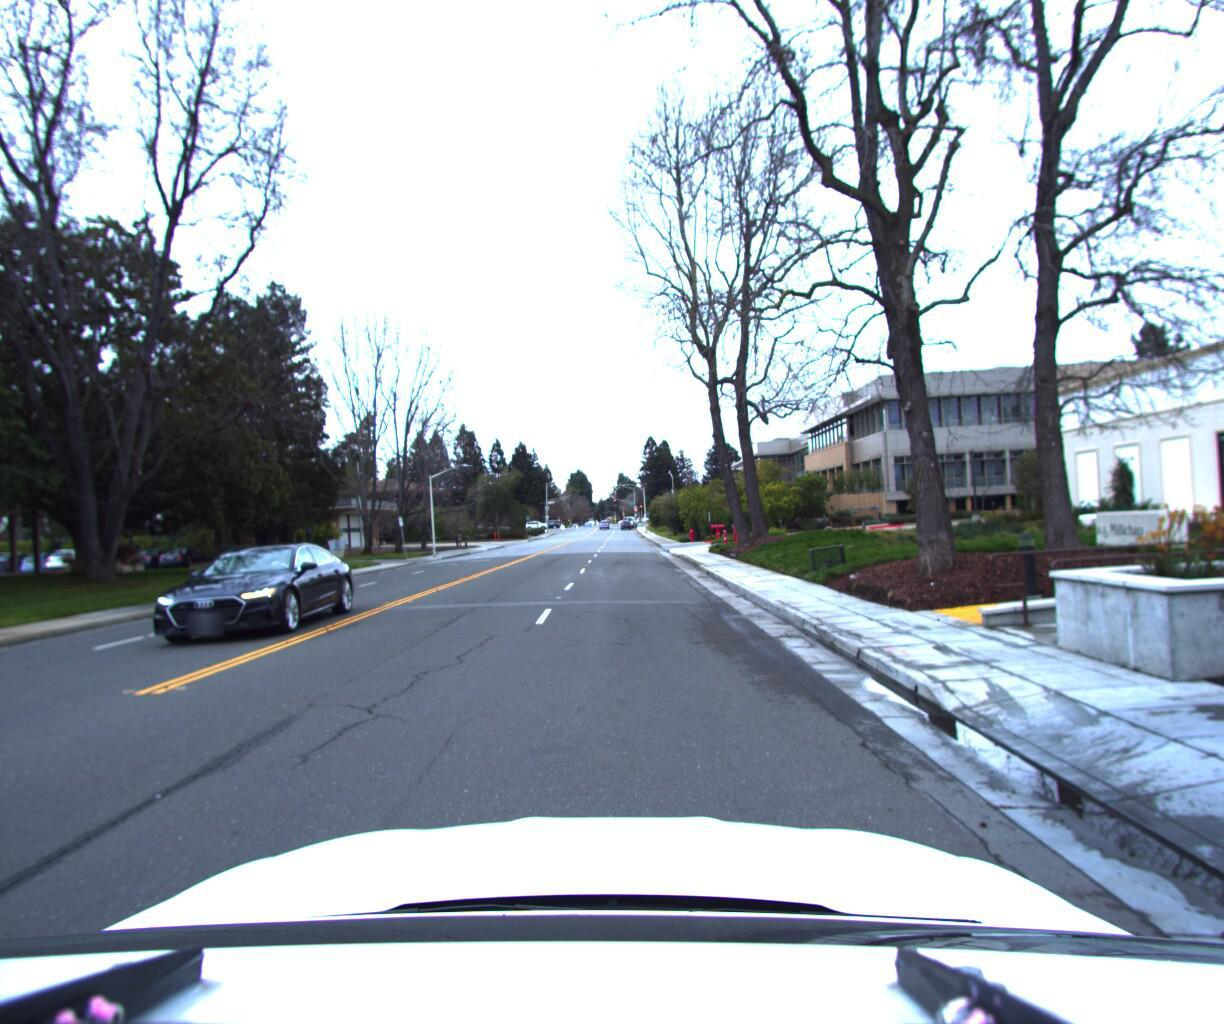car: (130, 538, 373, 654)
